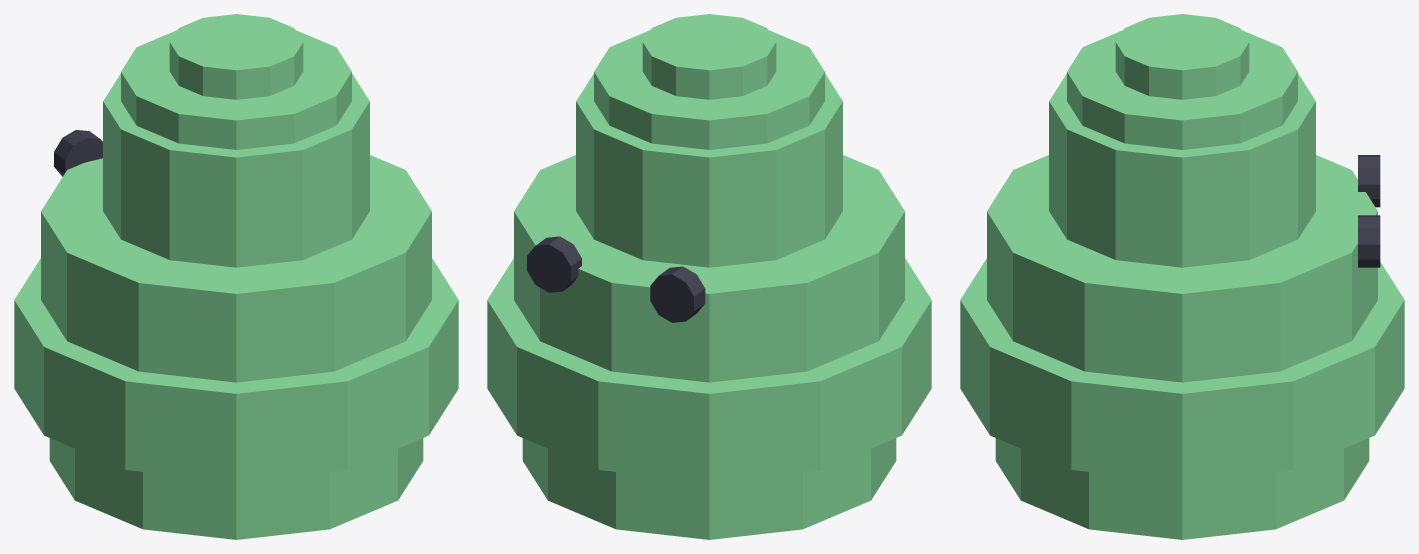
Rendered from enemy_slime_golem.glb.
3 renders of one model, left to right at view 1: azimuth 30°, elevation 25°; view 2: azimuth 150°, elevation 25°; view 3: azimuth 270°, elevation 25°, orthographic.
Visible parts, largest first — view 1: slime_body2, slime_body1, slime_body3, slime_body0, slime_dome_ring1, slime_dome_ring0, slime_dome_ring2, slime_eye; view 2: slime_body1, slime_body2, slime_body3, slime_body0, slime_dome_ring1, slime_dome_ring0, slime_dome_ring2, slime_eye, slime_eye.001; view 3: slime_body2, slime_body1, slime_body3, slime_body0, slime_dome_ring1, slime_dome_ring0, slime_dome_ring2, slime_eye.001, slime_eye.
Boxes of the visible parts, bbox=[...] form: slime_body2: bbox=[41, 155, 431, 382]; slime_body1: bbox=[14, 258, 458, 482]; slime_body3: bbox=[103, 131, 369, 267]; slime_body0: bbox=[49, 438, 423, 539]; slime_dome_ring1: bbox=[121, 30, 351, 149]; slime_dome_ring0: bbox=[103, 73, 369, 186]; slime_dome_ring2: bbox=[169, 14, 303, 99]; slime_eye: bbox=[54, 130, 102, 176]; slime_body1: bbox=[487, 258, 931, 482]; slime_body2: bbox=[514, 155, 904, 382]; slime_body3: bbox=[576, 131, 842, 267]; slime_body0: bbox=[522, 438, 896, 539]; slime_dome_ring1: bbox=[594, 30, 824, 149]; slime_dome_ring0: bbox=[576, 73, 842, 186]; slime_dome_ring2: bbox=[642, 14, 776, 99]; slime_eye: bbox=[650, 266, 705, 322]; slime_eye.001: bbox=[527, 236, 581, 292]; slime_body2: bbox=[987, 155, 1377, 382]; slime_body1: bbox=[960, 258, 1404, 482]; slime_body3: bbox=[1049, 131, 1315, 267]; slime_body0: bbox=[995, 438, 1369, 539]; slime_dome_ring1: bbox=[1067, 30, 1297, 149]; slime_dome_ring0: bbox=[1049, 73, 1315, 186]; slime_dome_ring2: bbox=[1115, 14, 1249, 99]; slime_eye.001: bbox=[1358, 215, 1380, 267]; slime_eye: bbox=[1358, 155, 1380, 207].
Size of the model in its own units: 1 by 1.04 by 1.
